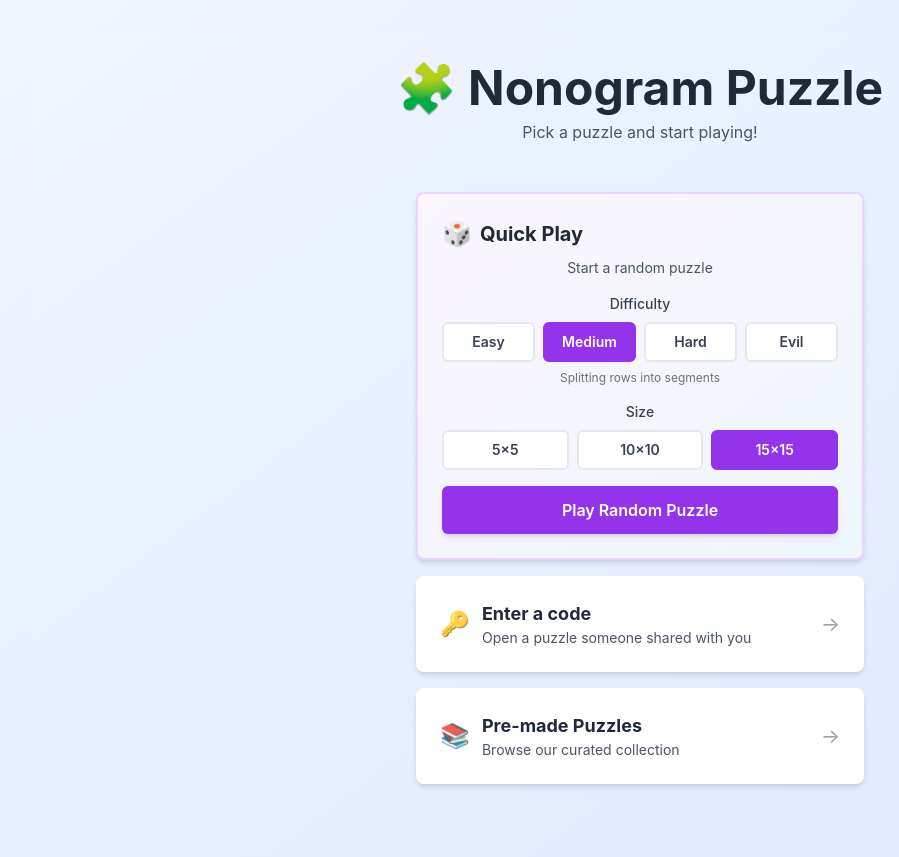
it: LandingPage › shows what the generator is doing while the player waits
What coordinates should you click on to do the following:
click the button "Play Random Puzzle"
I would click on:
 (640, 510)
Its box is x1=442 y1=486 x2=838 y2=534.
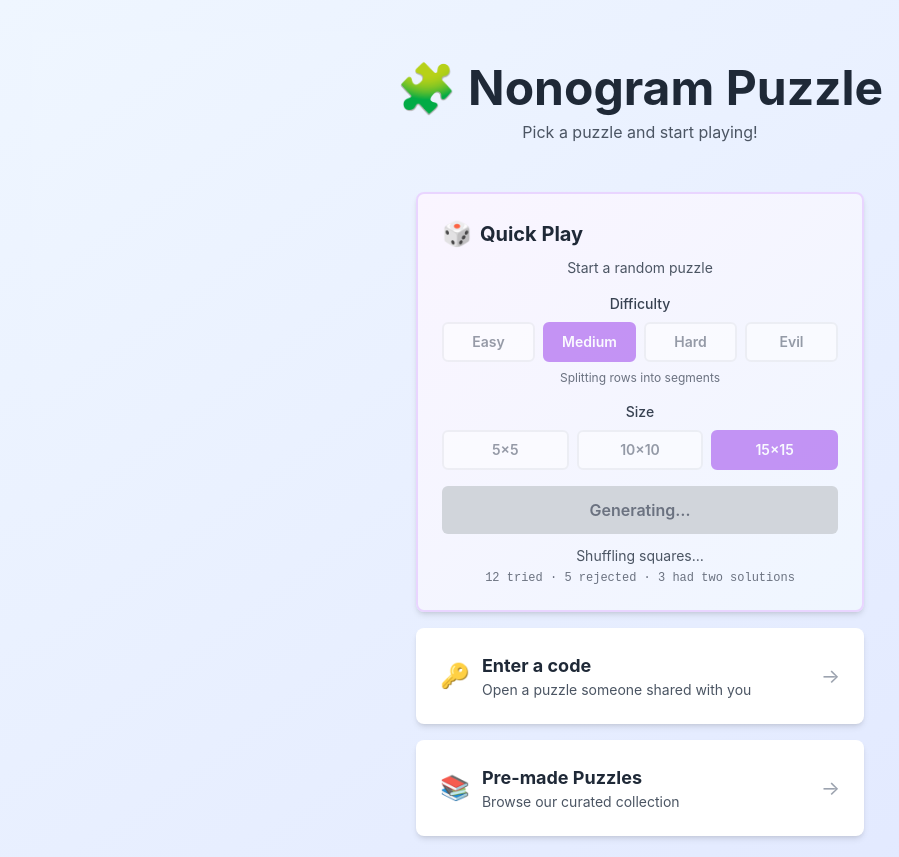
Result: the button "Generating…" is disabled at x1=442 y1=486 x2=838 y2=534
Result: the radio button labelled "Easy" is disabled at x1=442 y1=322 x2=535 y2=362
Result: the text "12 tried · 5 rejected · 3 had two solutions" is shown at x1=485 y1=571 x2=795 y2=585
